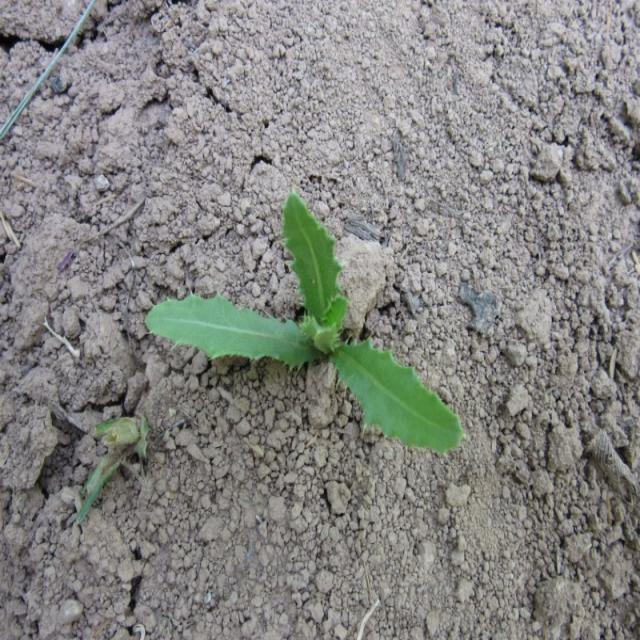cs: (144, 190, 466, 458)
